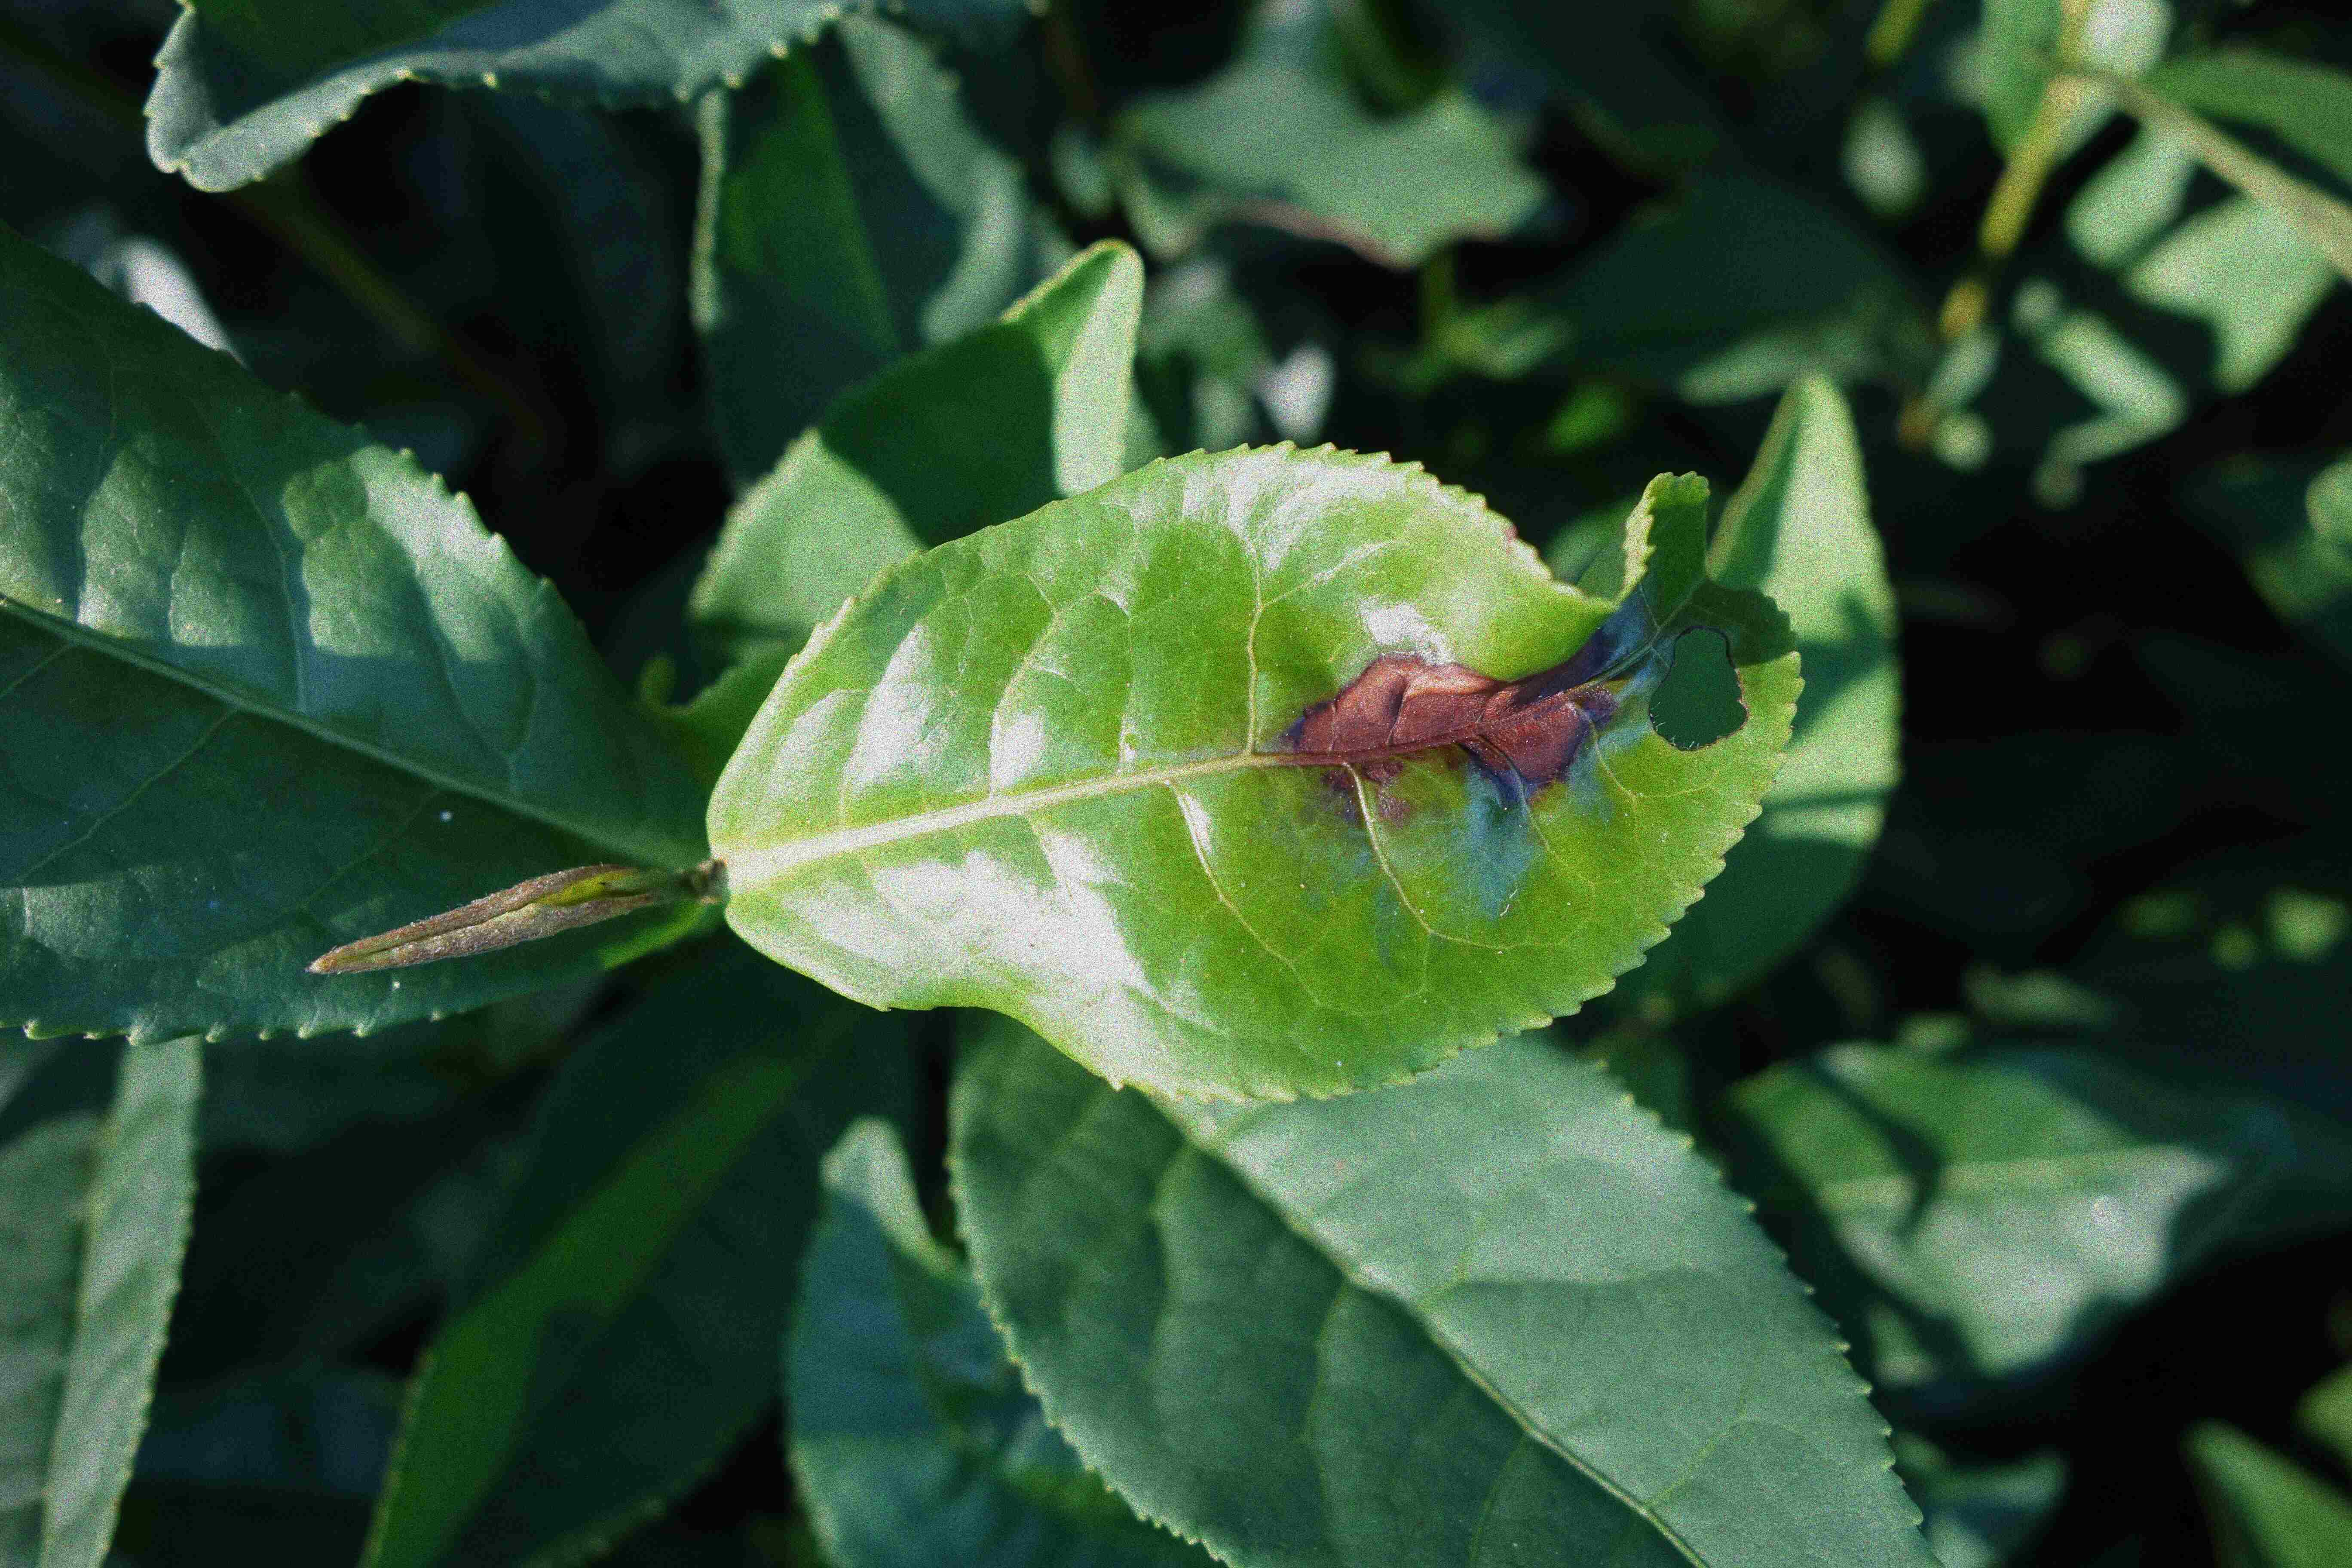tanju_high: (709, 443, 1809, 1106)
